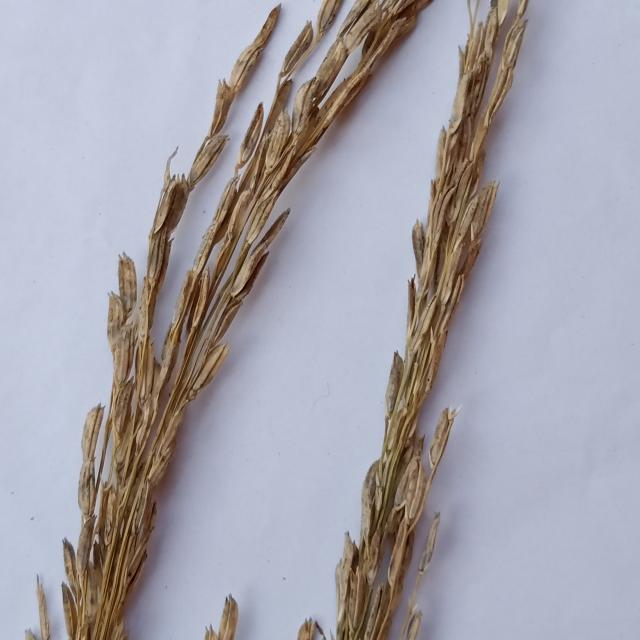Neck_Blast: (74, 4, 415, 640), (337, 12, 527, 638)
